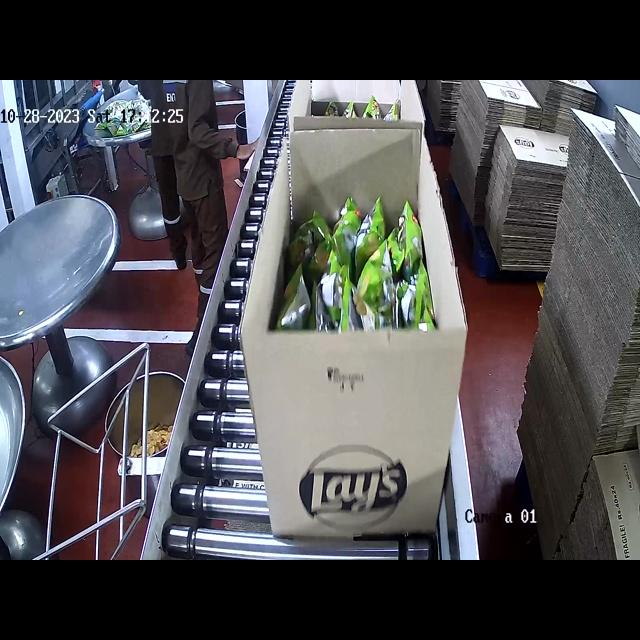yogurt: (287, 203, 424, 322)
